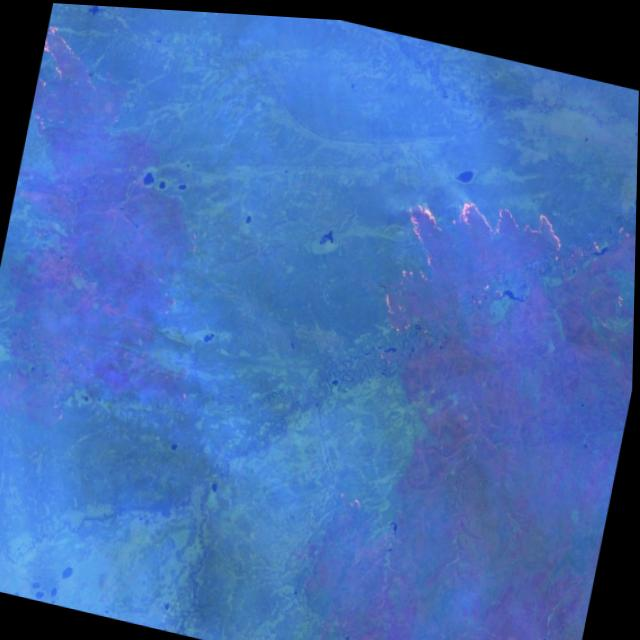fire: (376, 144, 638, 367), (23, 14, 98, 157)
